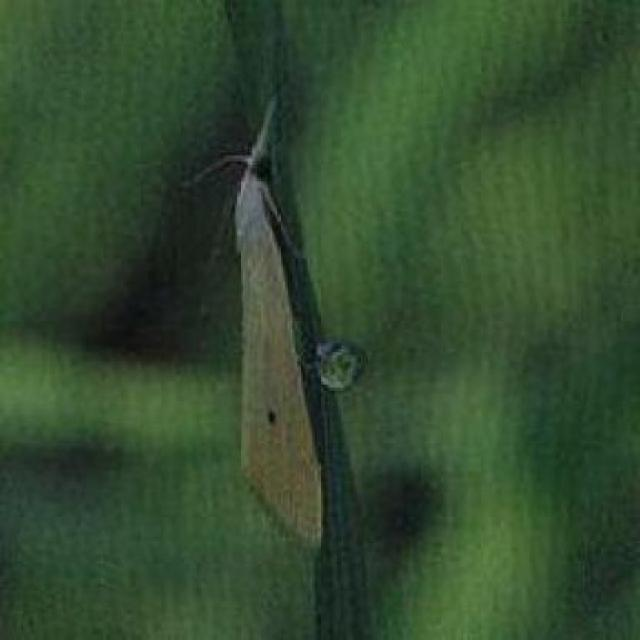stem-borer: (185, 91, 328, 552)
